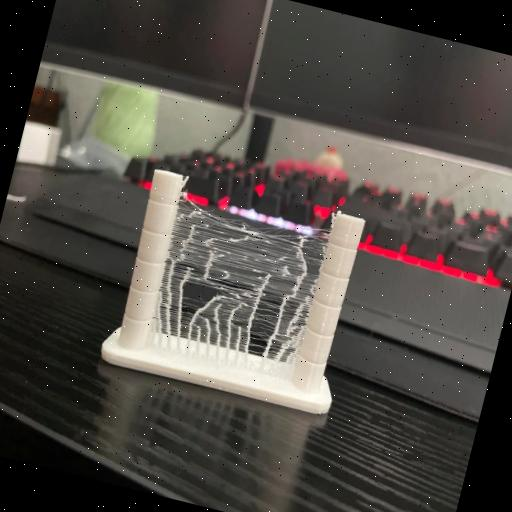stringing: (152, 188, 331, 378)
